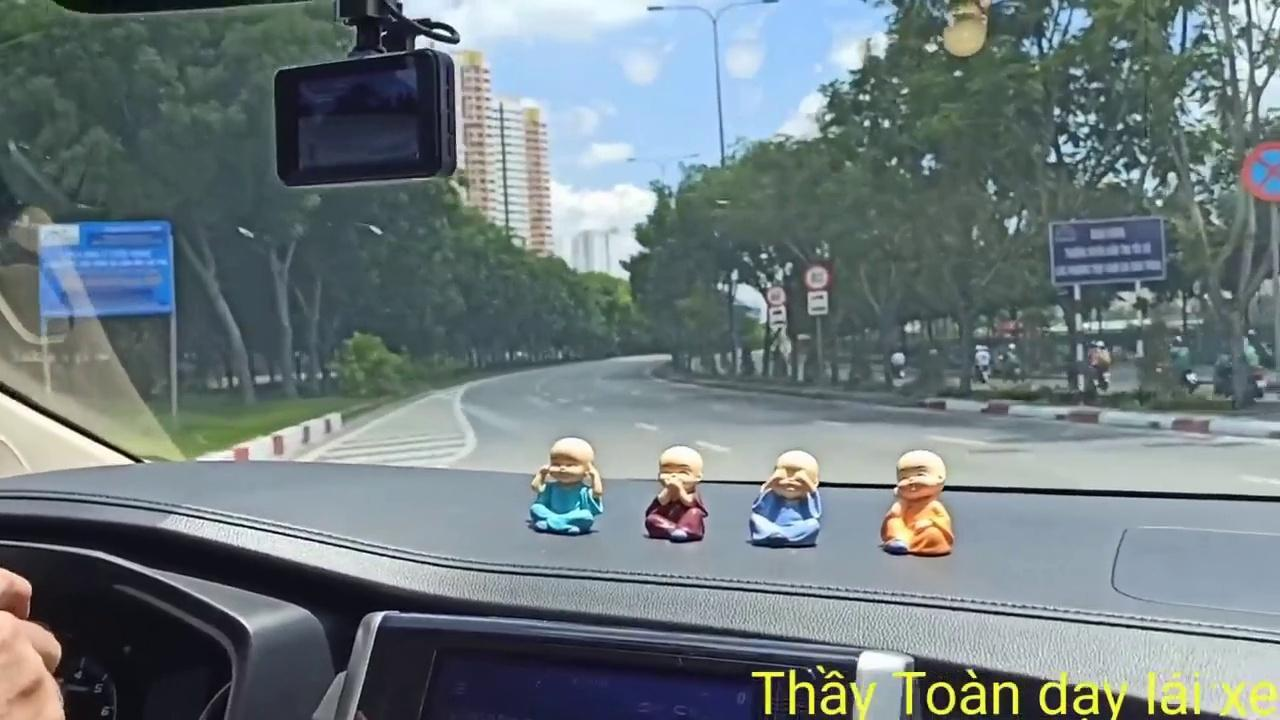Biển phụ: (808, 290, 829, 316), (767, 305, 788, 328)
Khác: (31, 220, 176, 318)
